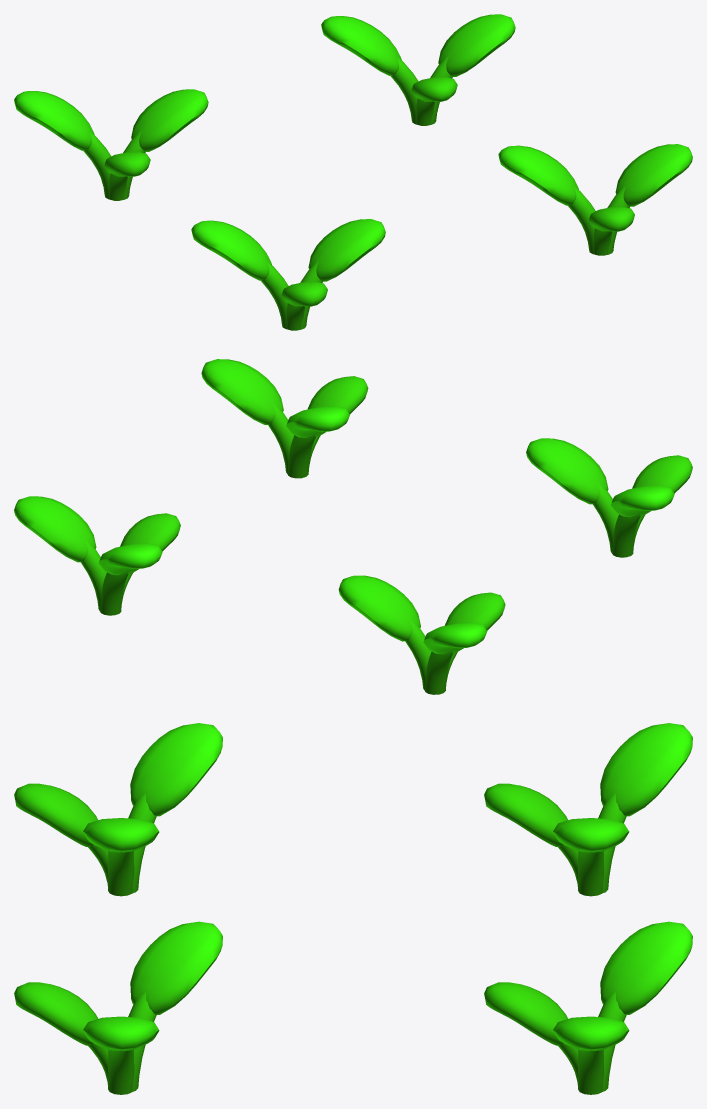
Rendered from Farm_Crop_Cabbage_Step_01.fbx.
3 views of the same model, one above another, from view 1: azimuth 30°, elevation 25°; view 2: azimuth 150°, elevation 25°; view 3: azimuth 270°, elevation 25° (orthographic). The views are drawn at different scales.
Parts seen in each view (by area): view 1: Farm_Crop_Cabbage_Step_01; view 2: Farm_Crop_Cabbage_Step_01; view 3: Farm_Crop_Cabbage_Step_01.
Boxes of the visible parts, box(x1,y1,x2,y2) form: Farm_Crop_Cabbage_Step_01: box(14, 14, 692, 330); Farm_Crop_Cabbage_Step_01: box(14, 359, 692, 694); Farm_Crop_Cabbage_Step_01: box(14, 723, 692, 1094).
Bounding box in the file's own units: 152 × 29.31 × 144.
